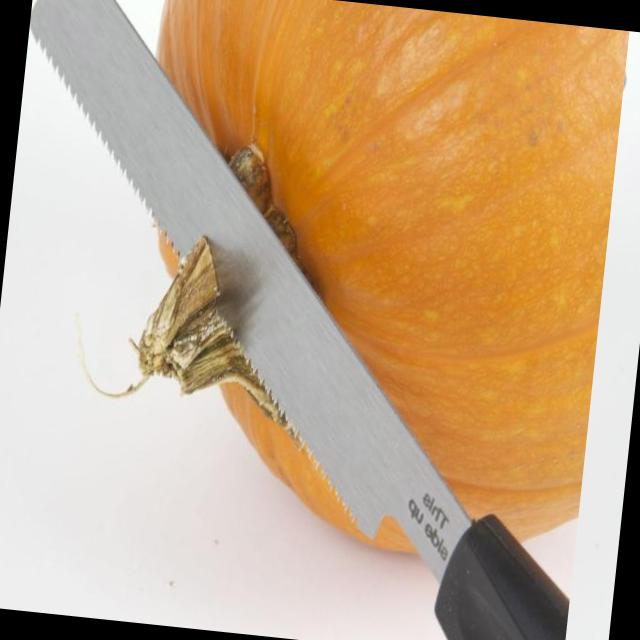Knife: (31, 0, 569, 640)
